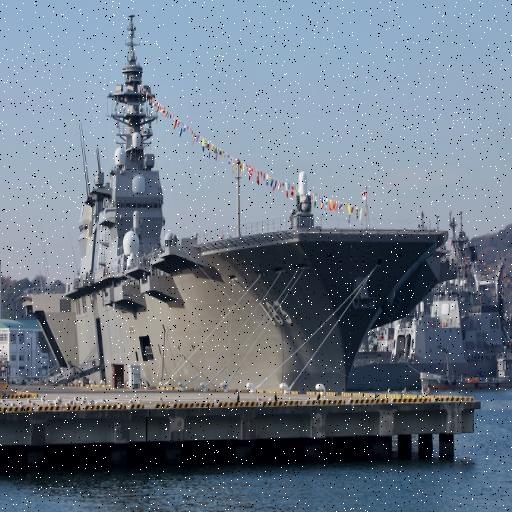Portanaves: (24, 11, 461, 409)
